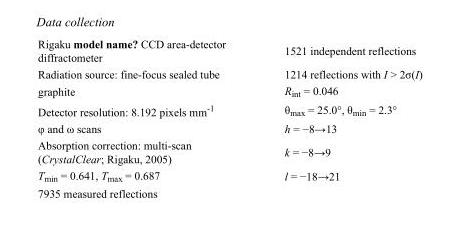table: (37, 37, 421, 199)
table column: (37, 37, 254, 199), (254, 37, 421, 199)
table row: (37, 136, 421, 166), (37, 37, 421, 65), (37, 81, 421, 100), (37, 100, 421, 119), (37, 166, 421, 184), (37, 119, 421, 136), (37, 65, 421, 81), (37, 184, 421, 199)
